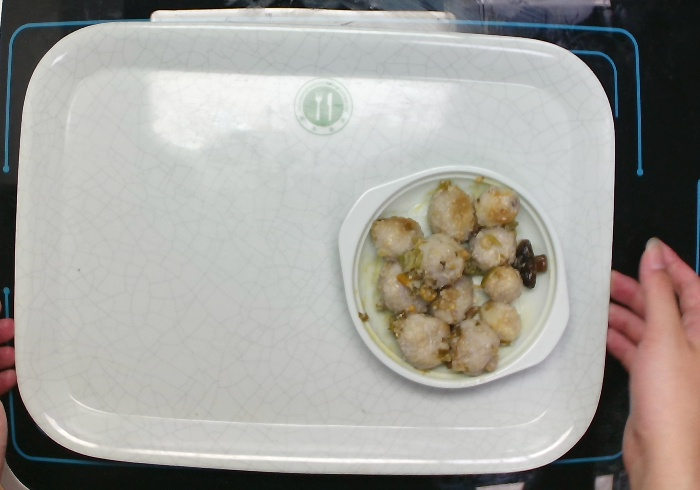JYsf-Shuang_Er_Pan: (331, 161, 577, 392)
